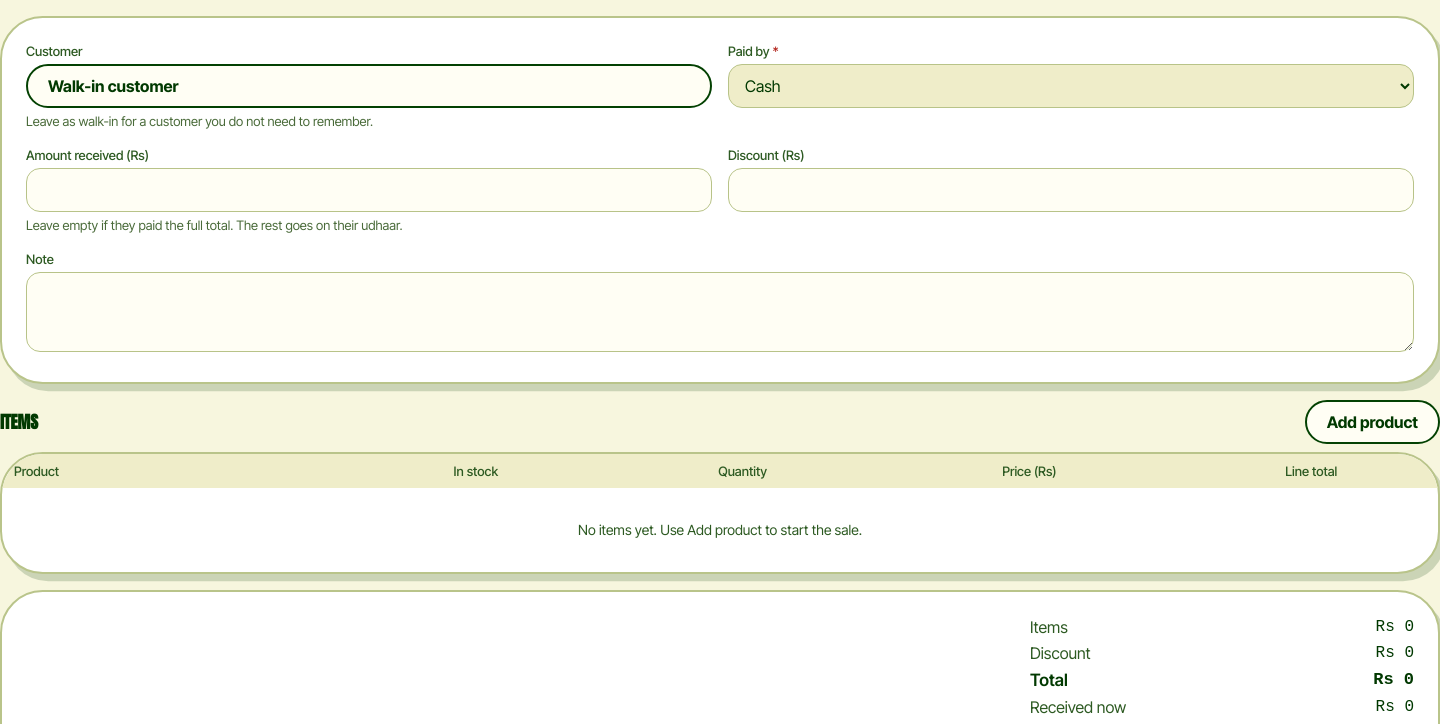
Test: New sale (PRD F-007) › explains a bad quantity or price at the line
Step 1. Click the button "Add product" → click(1372, 422), box [1305,400,1439,444]
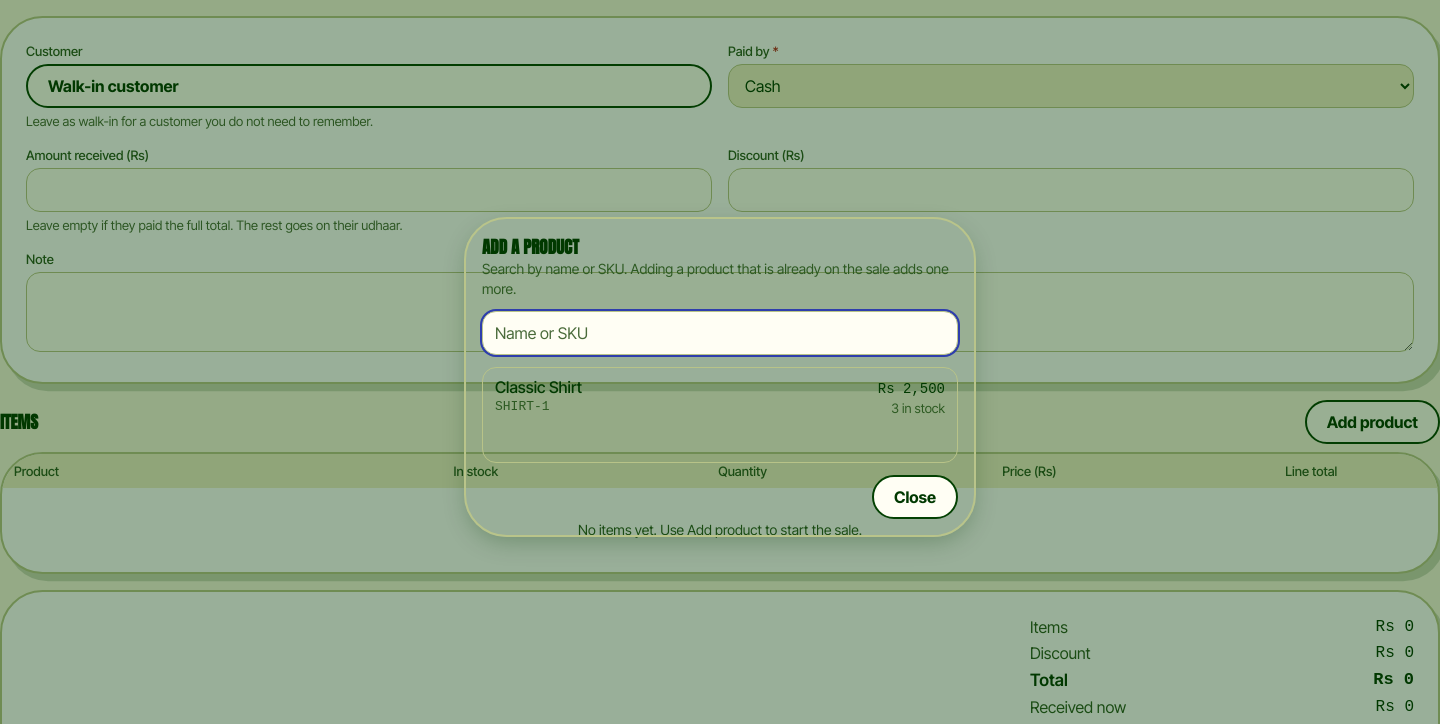
Step 2. Click the button "Classic Shirt SHIRT-1 Rs 2,500 3 in stock" → click(539, 387), box [483,368,957,425]
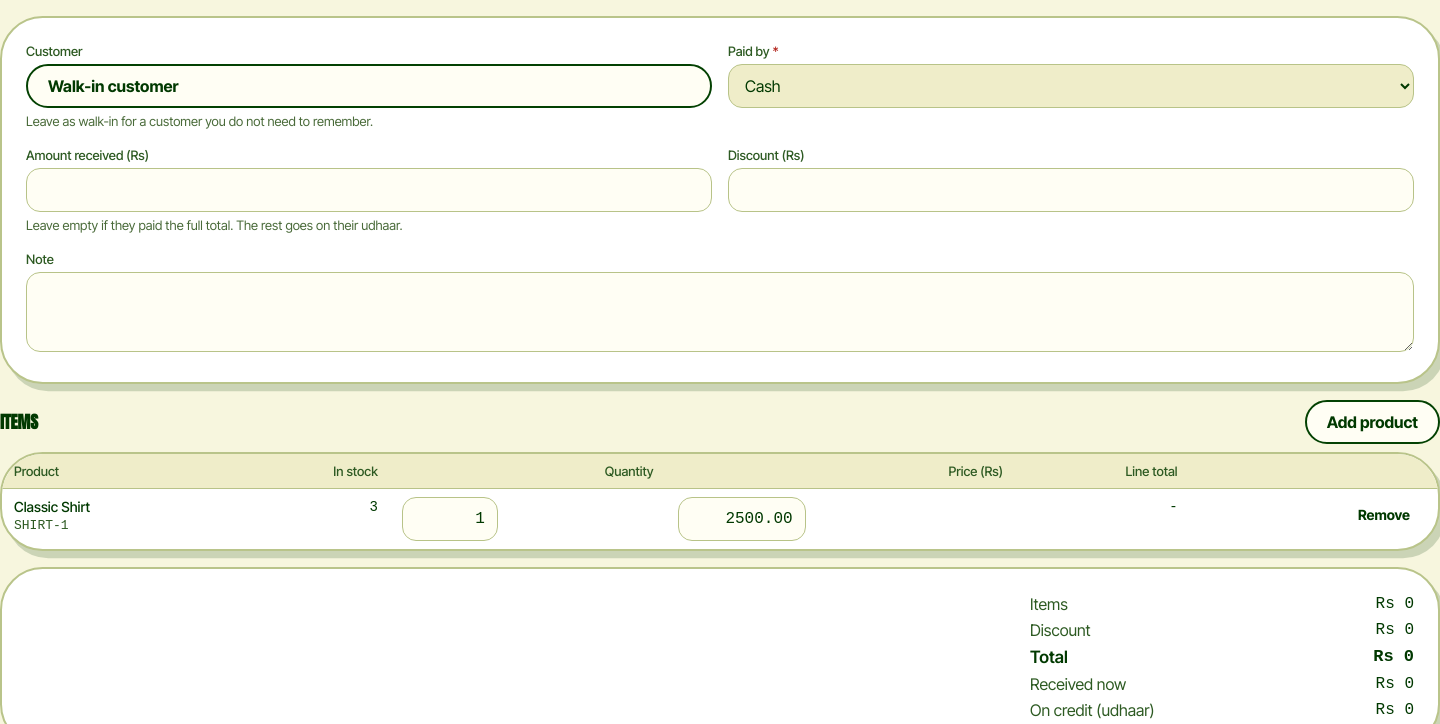
Step 3. Replace the text in the field named "Quantity of Classic Shirt" with "0" → (450, 519), box [402,497,498,541]
(page scrolled)
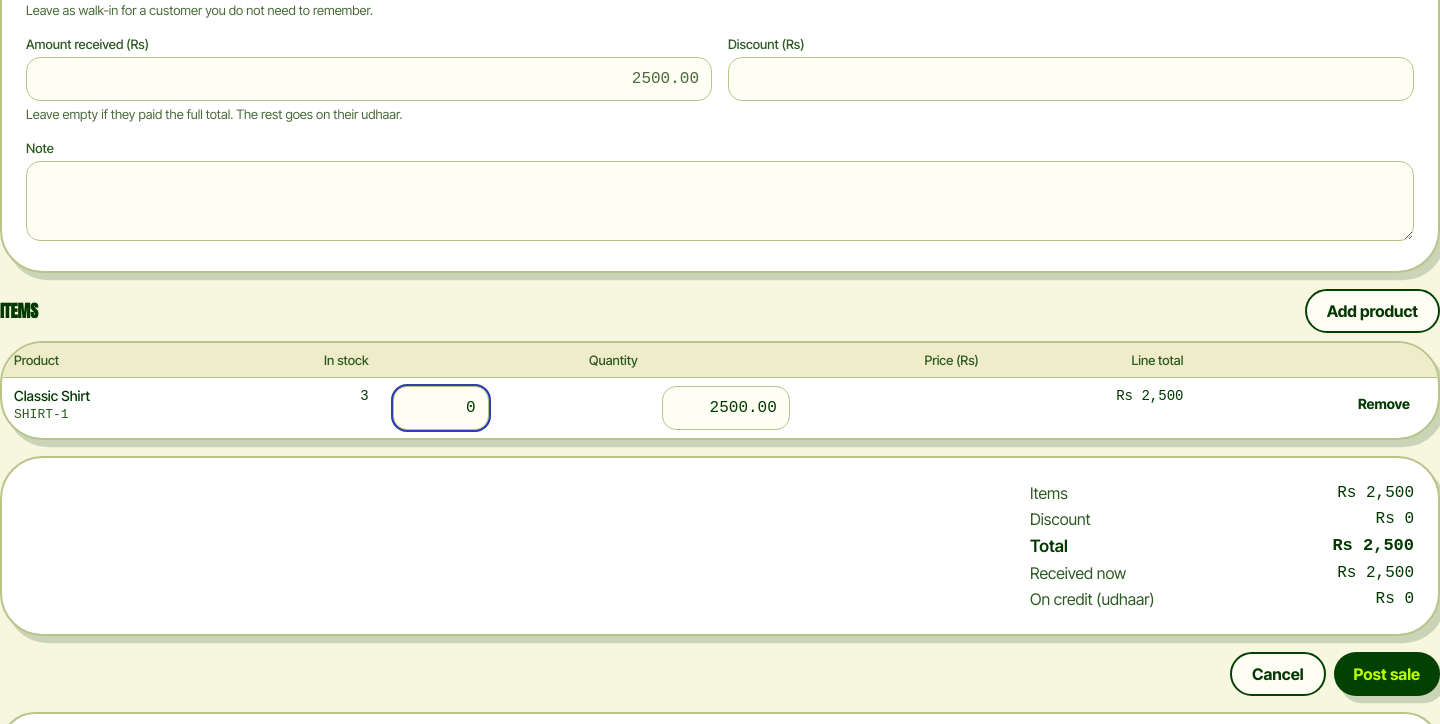
expect the button "Post sale" is enabled: met
Step 4. Click the button "Post sale" → click(1387, 674), box [1334,652,1439,696]
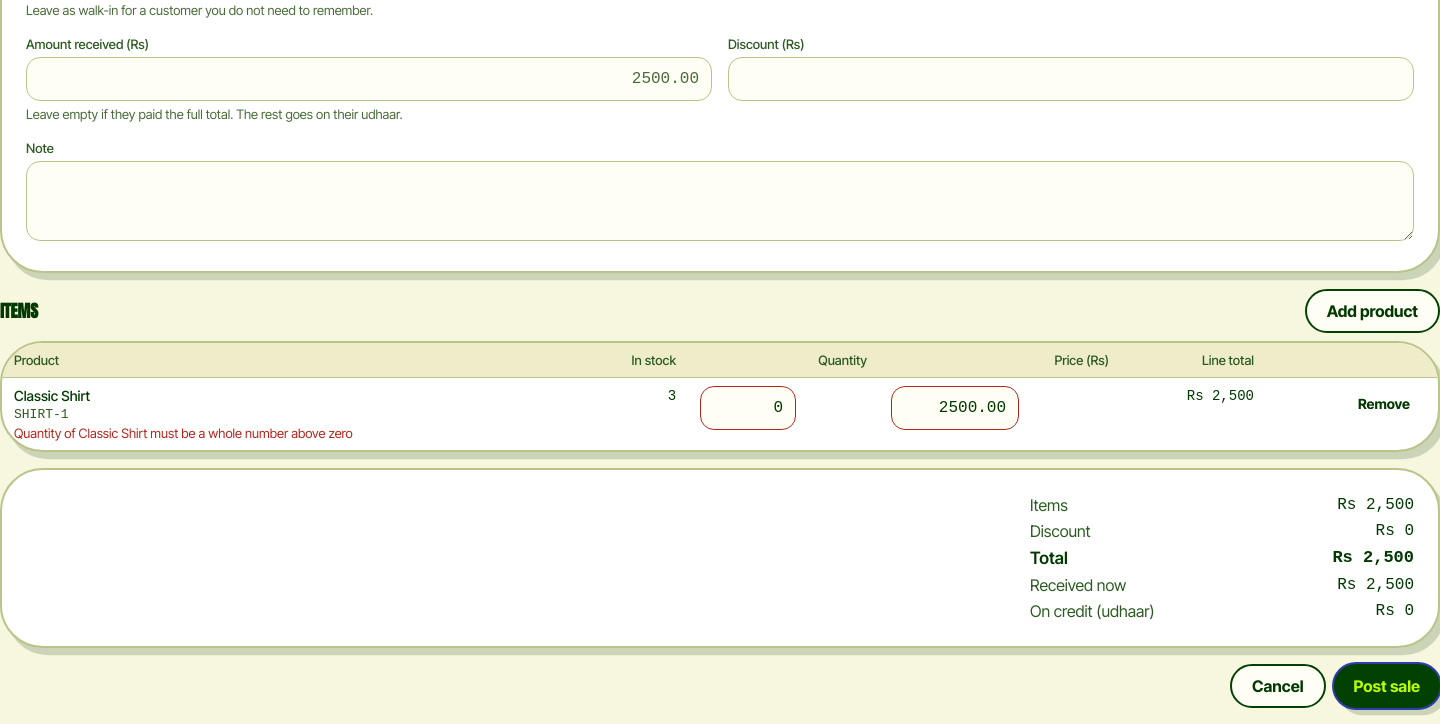
expect the text "Quantity of Classic Shirt must be a whole number above zero" is shown: met, box [14,425,353,441]
